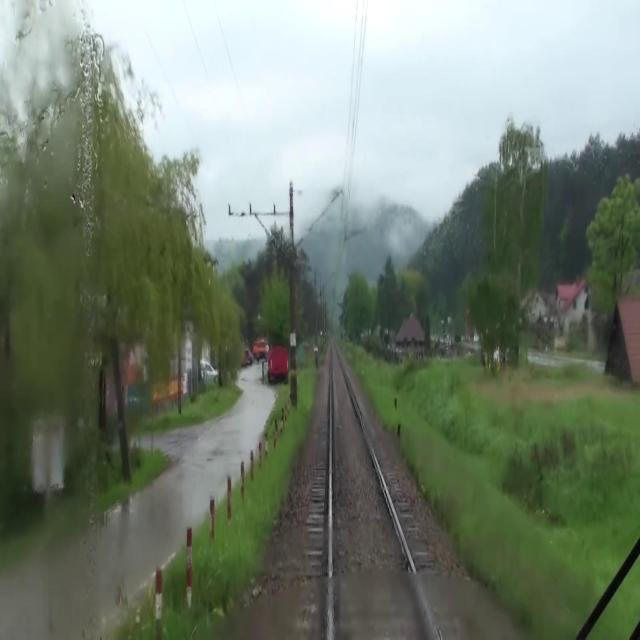rail-track: (332, 340, 435, 639)
